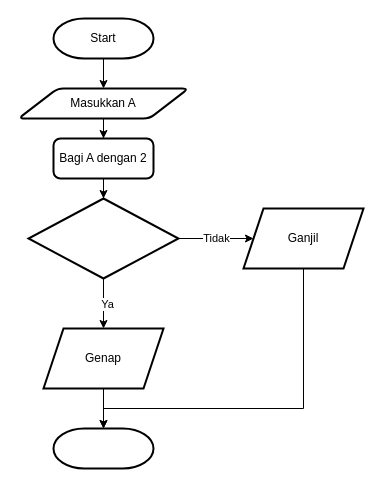
Some shapes in this 381 by 486 pixel diagram are drawn without their labels. The shapes that lost their labels are listed below. From the top down, each one's centre as x and y in pixels, then its label:
At (x=103, y=238): "Apakah hasil bagi = 0".
At (x=103, y=448): "End".
